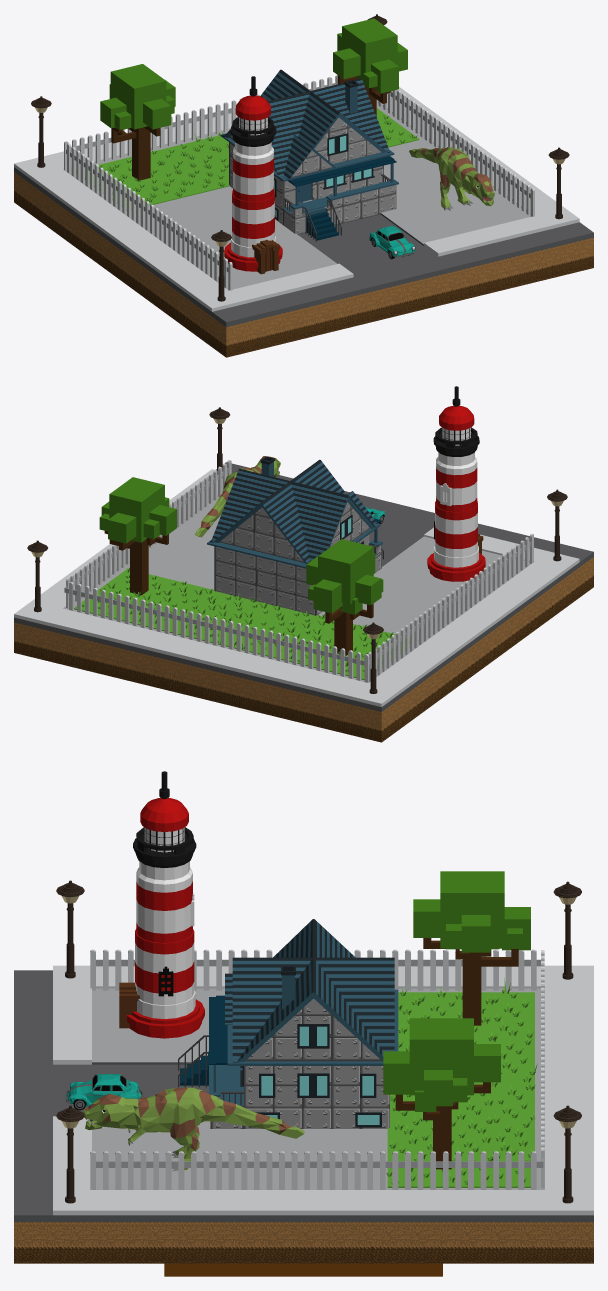
The picture shows the model from 3 angles, top to bottom: view 1: azimuth 30°, elevation 25°; view 2: azimuth 150°, elevation 25°; view 3: azimuth 270°, elevation 25°; orthographic projection. The views are drawn at different scales.
Parts seen in each view (by area): view 1: Cube.004, Cube.078, OBJRANDOM_LIGHTHOUSE, ANIMAL_TREX, VEHICLES_VOLKSWAGEN; view 2: Cube.004, Cube.078, OBJRANDOM_LIGHTHOUSE, ANIMAL_TREX; view 3: Cube.004, Cube.078, OBJRANDOM_LIGHTHOUSE, ANIMAL_TREX, UNDERGROUND_ART_PIECE_VAN_GOGH, VEHICLES_VOLKSWAGEN.
Part boxes in pixels (bbox=[...]): Cube.004: bbox=[14, 14, 593, 357]; Cube.078: bbox=[221, 69, 398, 241]; OBJRANDOM_LIGHTHOUSE: bbox=[224, 76, 282, 274]; ANIMAL_TREX: bbox=[409, 147, 494, 210]; VEHICLES_VOLKSWAGEN: bbox=[369, 226, 415, 259]; Cube.004: bbox=[14, 407, 593, 742]; Cube.078: bbox=[207, 456, 383, 615]; OBJRANDOM_LIGHTHOUSE: bbox=[427, 386, 485, 581]; ANIMAL_TREX: bbox=[195, 456, 280, 537]; Cube.004: bbox=[14, 871, 593, 1263]; Cube.078: bbox=[178, 919, 398, 1128]; OBJRANDOM_LIGHTHOUSE: bbox=[119, 771, 204, 1038]; ANIMAL_TREX: bbox=[83, 1087, 304, 1171]; UNDERGROUND_ART_PIECE_VAN_GOGH: bbox=[164, 1263, 442, 1276]; VEHICLES_VOLKSWAGEN: bbox=[65, 1074, 143, 1110].
Size of the model in its own units: 4000 by 2494 by 4000.
38 materials, 6 textured.
